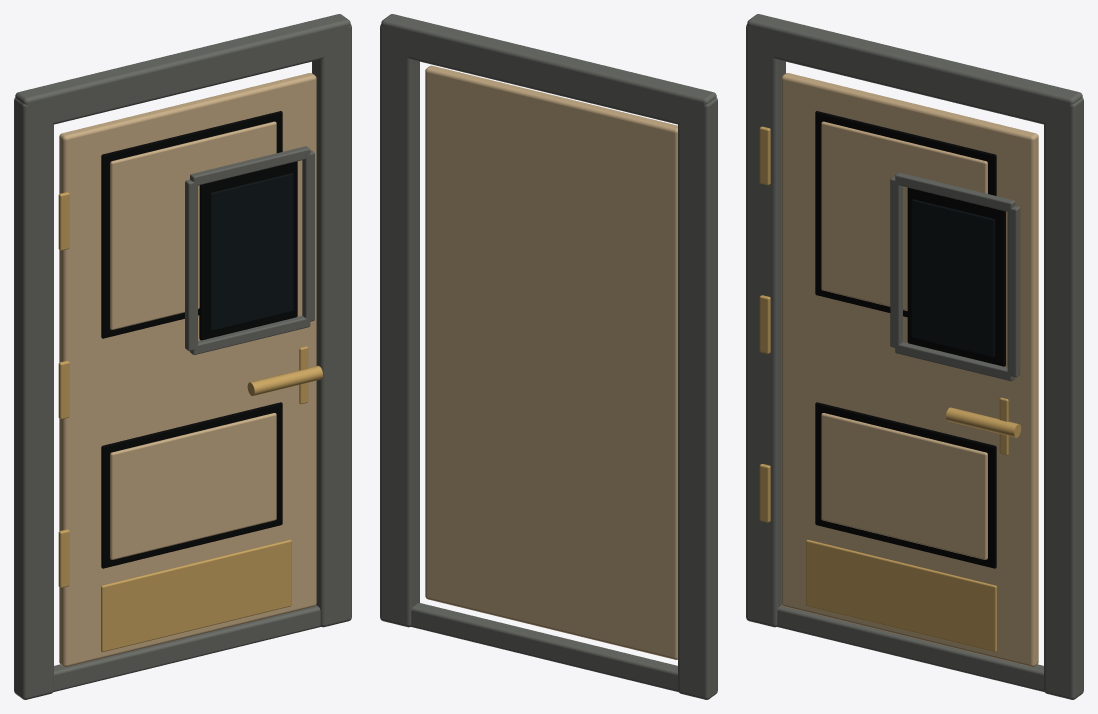
Rendered from classroom-door.gltf.
3 views of the same model, side by side, from view 1: azimuth 30°, elevation 25°; view 2: azimuth 150°, elevation 25°; view 3: azimuth 330°, elevation 25° (orthographic).
Parts seen in each view (by area): view 1: door-slab, outer-frame-left, outer-frame-right, lower-panel, upper-panel, window-recess, outer-frame-top, kick-plate, wire-glass, outer-frame-bottom, lower-panel-recess, upper-panel-recess (+8 smaller); view 2: door-slab, outer-frame-left, outer-frame-right, outer-frame-top, outer-frame-bottom; view 3: door-slab, outer-frame-right, outer-frame-left, lower-panel, upper-panel, window-recess, outer-frame-top, kick-plate, wire-glass, outer-frame-bottom, lower-panel-recess, upper-panel-recess (+8 smaller).
Part boxes in pixels (x1=…): door-slab: x1=59, y1=73, x2=316, y2=666; outer-frame-left: x1=14, y1=97, x2=53, y2=699; outer-frame-right: x1=312, y1=24, x2=351, y2=627; lower-panel: x1=110, y1=413, x2=276, y2=559; upper-panel: x1=110, y1=121, x2=276, y2=329; window-recess: x1=199, y1=161, x2=297, y2=340; outer-frame-top: x1=15, y1=14, x2=350, y2=128; kick-plate: x1=101, y1=539, x2=291, y2=652; wire-glass: x1=210, y1=173, x2=293, y2=330; outer-frame-bottom: x1=53, y1=605, x2=320, y2=691; lower-panel-recess: x1=101, y1=402, x2=282, y2=568; upper-panel-recess: x1=101, y1=111, x2=282, y2=338; door-slab: x1=425, y1=65, x2=677, y2=659; outer-frame-left: x1=678, y1=97, x2=717, y2=699; outer-frame-right: x1=380, y1=24, x2=419, y2=627; outer-frame-top: x1=381, y1=14, x2=716, y2=127; outer-frame-bottom: x1=411, y1=602, x2=678, y2=691; door-slab: x1=781, y1=73, x2=1038, y2=666; outer-frame-right: x1=1044, y1=97, x2=1083, y2=699; outer-frame-left: x1=746, y1=24, x2=785, y2=627; lower-panel: x1=821, y1=413, x2=987, y2=559; upper-panel: x1=821, y1=121, x2=987, y2=310; window-recess: x1=907, y1=187, x2=1005, y2=366; outer-frame-top: x1=747, y1=14, x2=1082, y2=127; kick-plate: x1=806, y1=539, x2=996, y2=652; wire-glass: x1=911, y1=199, x2=995, y2=356; outer-frame-bottom: x1=777, y1=605, x2=1044, y2=691; lower-panel-recess: x1=815, y1=402, x2=996, y2=568; upper-panel-recess: x1=815, y1=111, x2=996, y2=317.
Bounding box in the file's own units: 1.35 × 2.35 × 0.185.
